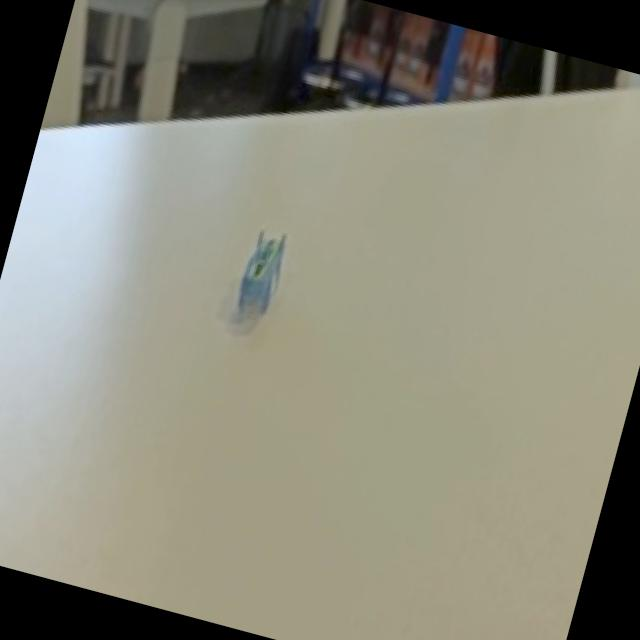3_NanoBug_Celeste: (196, 214, 318, 358)
